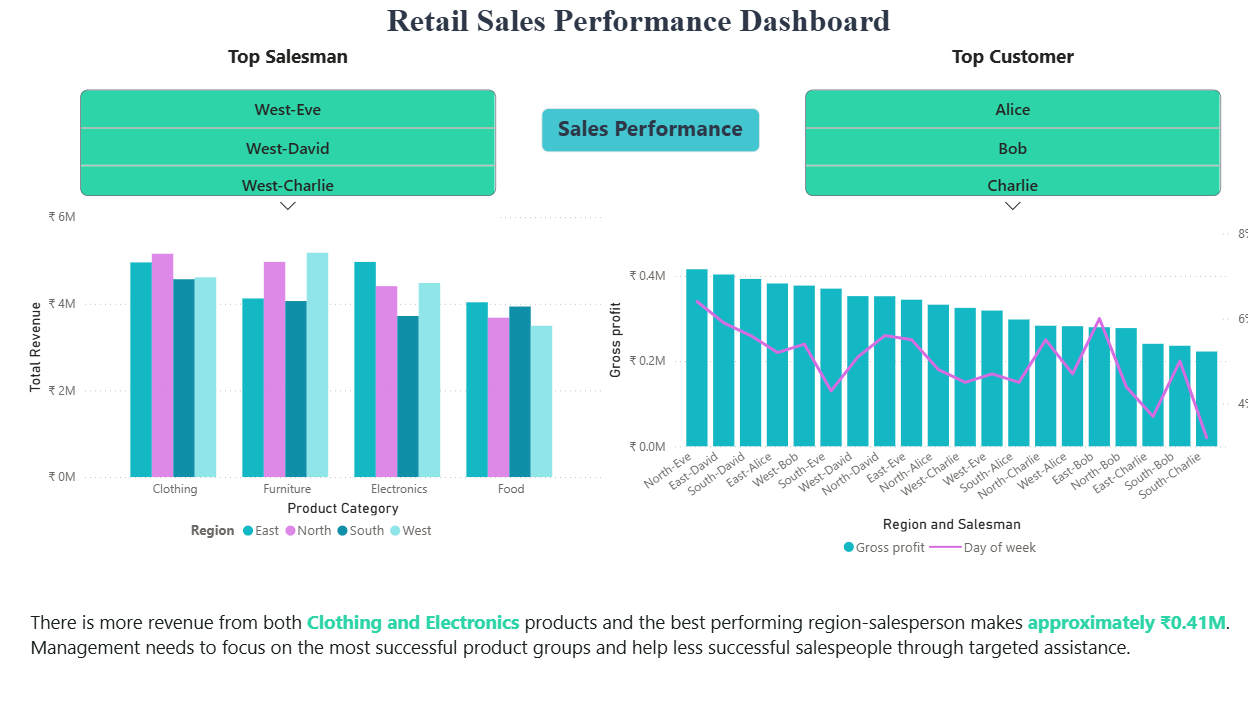

What the dashboard file says about the page in this screenshot:
{"tool":"powerbi","page":{"name":"Sales Performance","canvas":[1280,720],"ordinal":1},"visuals":[{"type":"textbox","box":[362.8,0,554.4,57.6],"z":0},{"type":"textbox","box":[542.6,111.2,218.2,43.9],"z":1000},{"type":"textbox","box":[26.2,607.5,1227.7,69.7],"z":2000},{"type":"lineClusteredColumnComboChart","fields":{"Category":["sale.Product_Category"],"Y":["Sum(sale.Revenue)"],"Series":["sale.Region"]},"box":[23.8,208.8,580,340],"z":3000},{"type":"cardVisual","title":"Top Salesman","fields":{"Data":["Sum(sale.Profit )"],"Rows":["sale.Region_and_Sales_Rep"]},"box":[78.8,43.8,420,178.8],"z":4000},{"type":"lineStackedColumnComboChart","fields":{"Category":["sale.Region_and_Sales_Rep"],"Y":["Sum(sale.gross_profit)"],"Y2":["CountNonNull(sale.day_of_week)"]},"box":[603.8,225,676.2,340],"z":6000},{"type":"cardVisual","title":"Top Customer","fields":{"Data":["Sum(sale.Profit )"],"Rows":["sale.customer_name"]},"box":[803.8,43.8,420,178.8],"z":7000}]}

Visuals, with their boxes in screenshot pixels (x1, y1, x2, y2), scaled from the page's 1280x720 canvas onto the 1248x707 screenshot:
textbox: detection(354, 0, 894, 57)
textbox: detection(529, 109, 742, 152)
textbox: detection(26, 597, 1223, 665)
lineClusteredColumnComboChart - sale.Product_Category x Sum(sale.Revenue): detection(23, 205, 589, 539)
"Top Salesman" cardVisual: detection(77, 43, 486, 219)
lineStackedColumnComboChart - sale.Region_and_Sales_Rep x Sum(sale.gross_profit): detection(589, 221, 1247, 555)
"Top Customer" cardVisual: detection(784, 43, 1193, 219)
